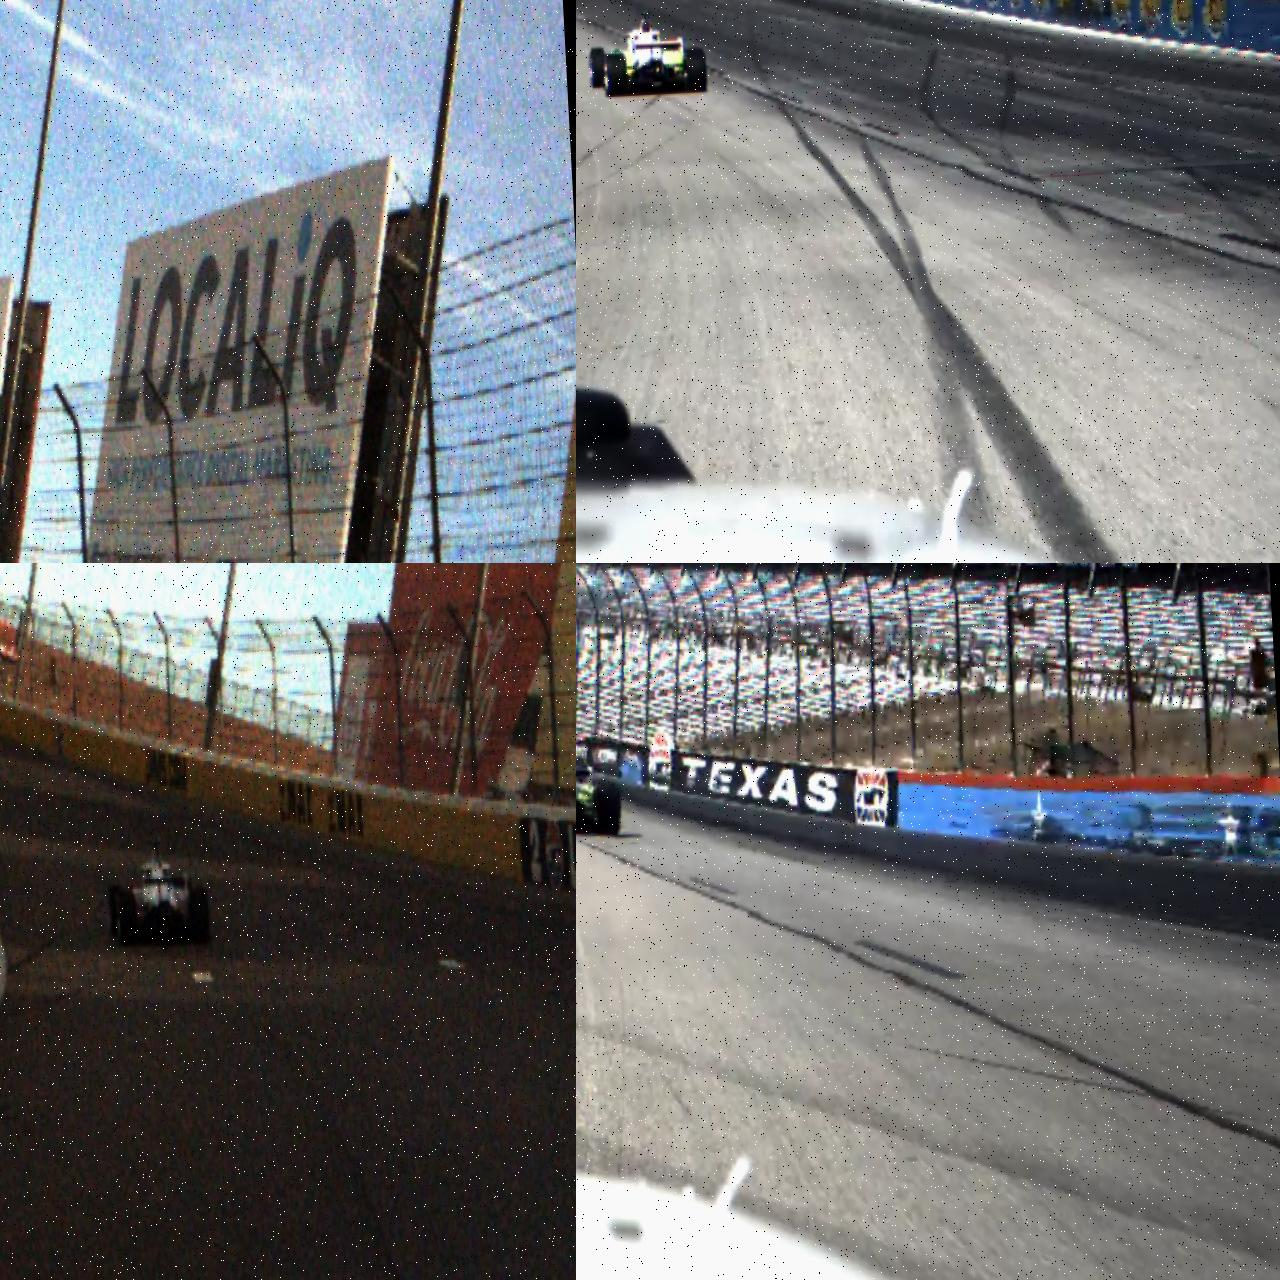AV: (104, 834, 212, 950), (586, 7, 708, 98), (576, 732, 623, 841)
Wheel: (593, 782, 622, 836), (116, 892, 139, 949), (190, 886, 211, 946), (106, 883, 128, 936), (684, 46, 708, 92), (603, 52, 628, 96), (588, 47, 607, 88)
